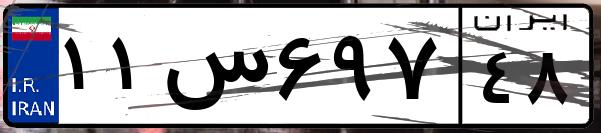1: (57, 26, 110, 100), (110, 28, 158, 98)
4: (475, 38, 525, 113)
6: (270, 28, 330, 110)
7: (385, 28, 445, 110)
8: (525, 38, 570, 115)
9: (330, 28, 385, 110)
س: (158, 20, 270, 120)
